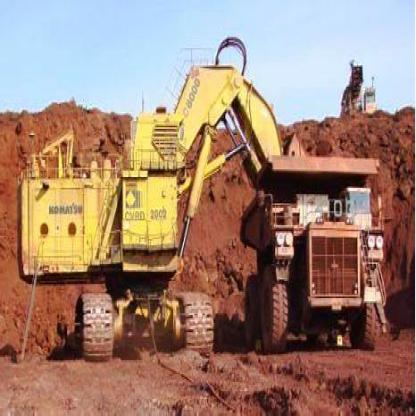dump_truck: (222, 140, 390, 356)
